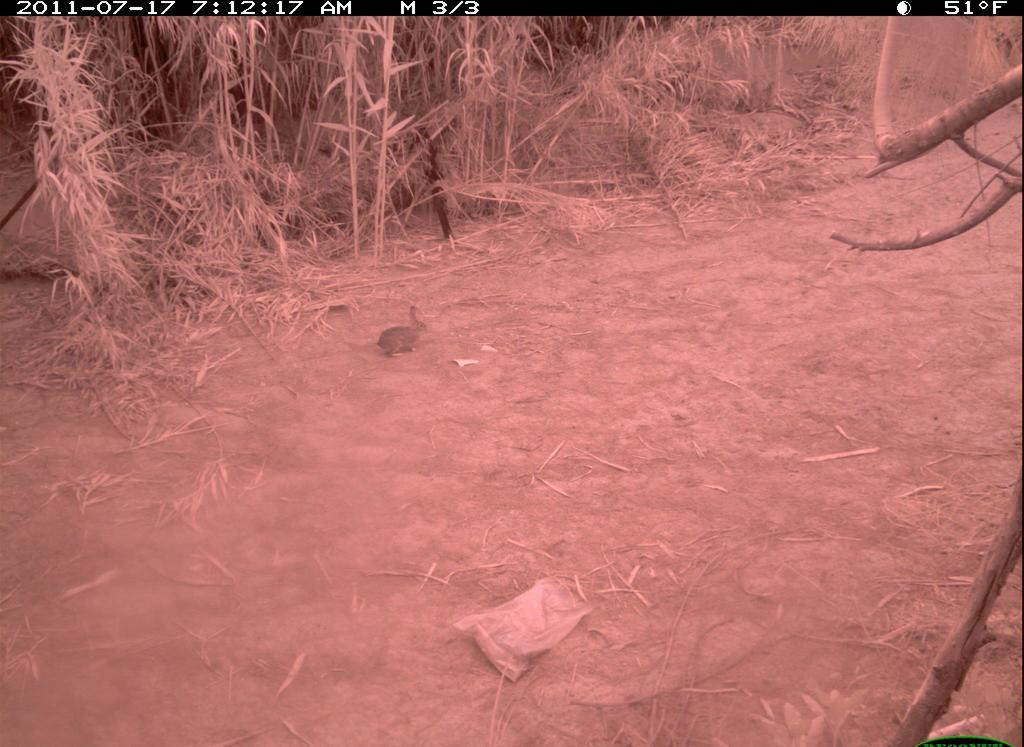rabbit: (364, 296, 434, 372)
